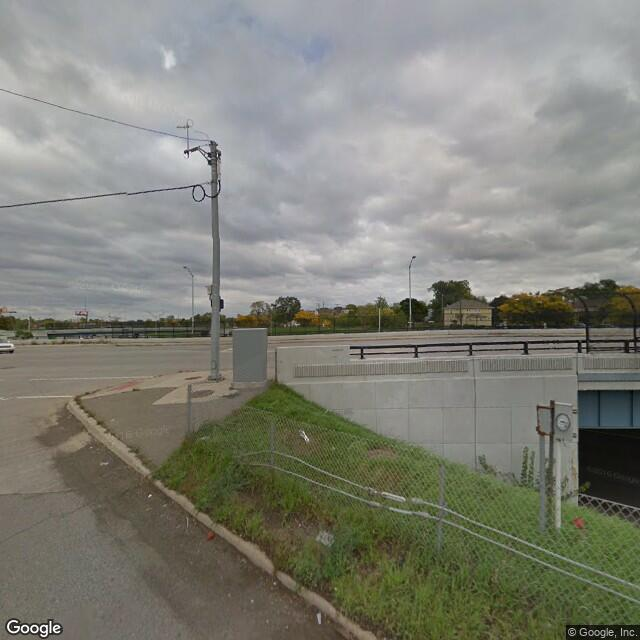litter: (317, 524, 340, 552), (297, 431, 313, 445), (315, 607, 324, 627), (147, 490, 152, 501)
